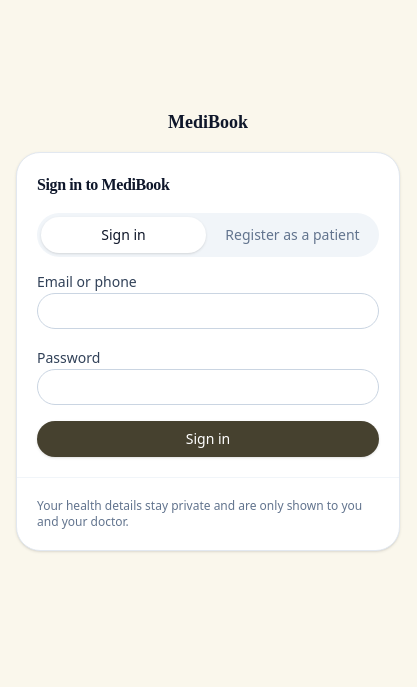
Test: Login screen › [AC-003] a 422 renders the password rules returned by the API
Click the tab "Register as a patient" at (292, 234), box [210,216,375,252]
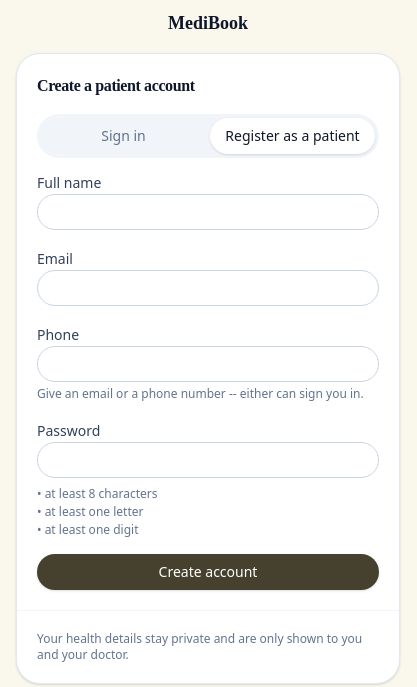
Type "Pat Patient" into the field labelled "Full name" at (208, 212), box [37,194,379,230]
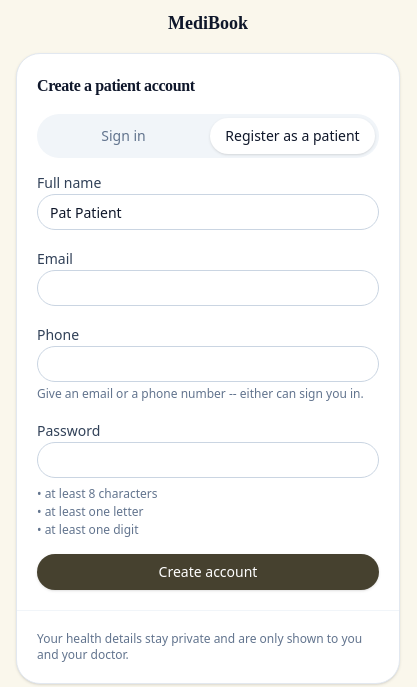
Type "pat@x.com" into the field labelled "Email" at (208, 288), box [37,270,379,306]
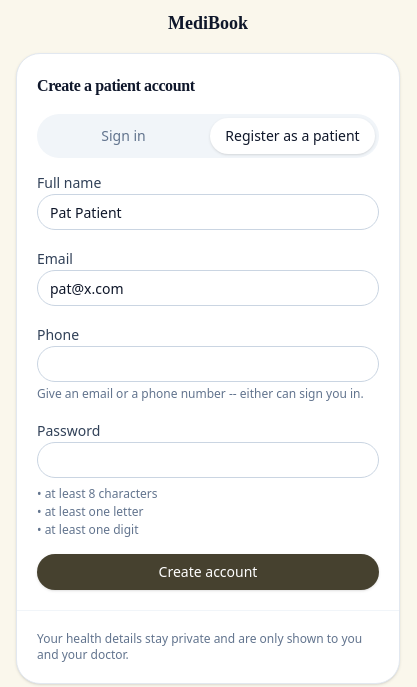
Type "longenough1" into the password field labelled "Password" at (208, 460), box [37,442,379,478]
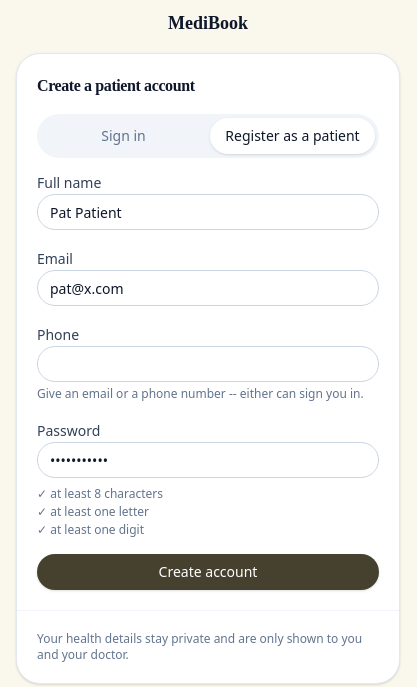
Click the button "Create account" at (208, 572), box [37,554,379,590]
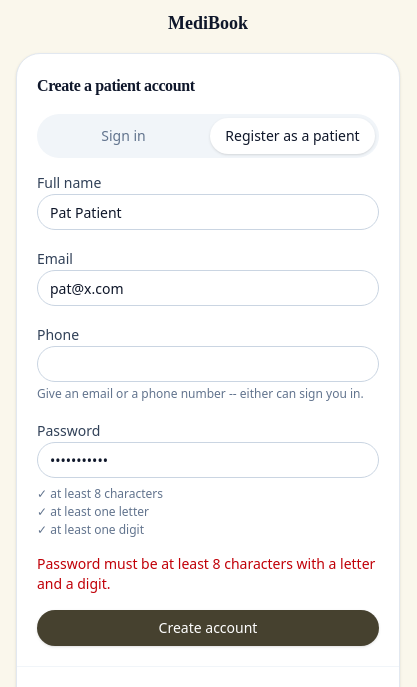
expect the message shows "at least 8 characters": met, box [37,554,375,593]
